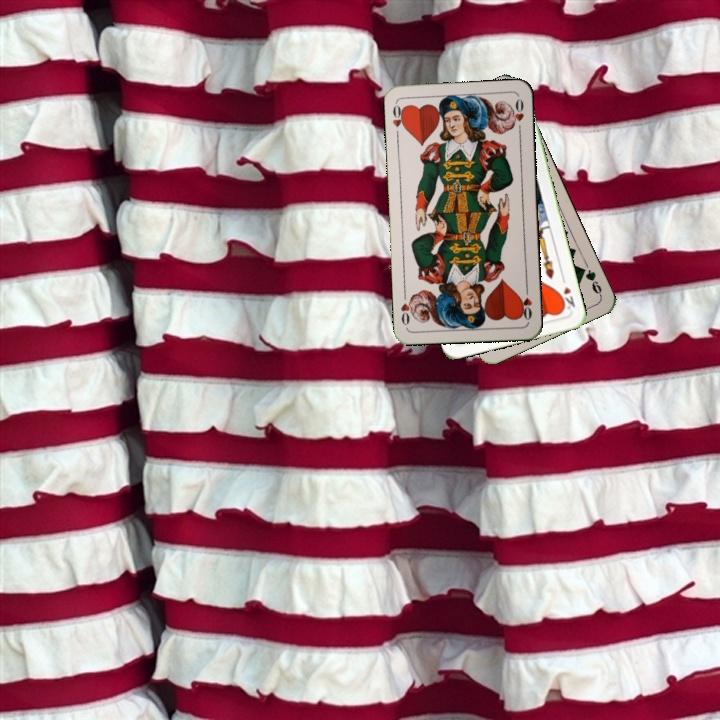G9: (576, 263, 604, 299)
HK: (556, 282, 577, 313)
HO: (389, 100, 408, 140), (516, 283, 534, 323)
